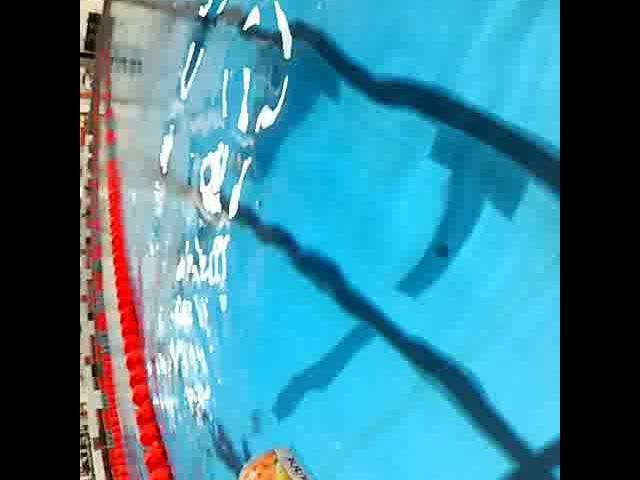Bottle: (233, 436, 377, 480)
